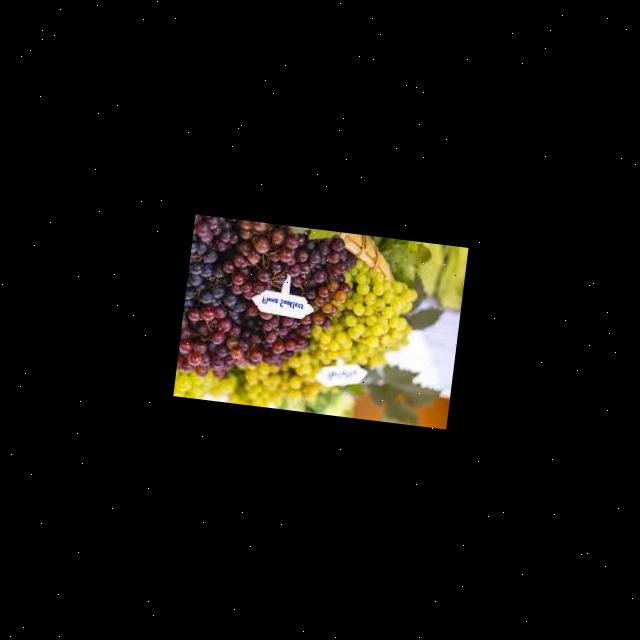grape: (175, 214, 358, 394)
